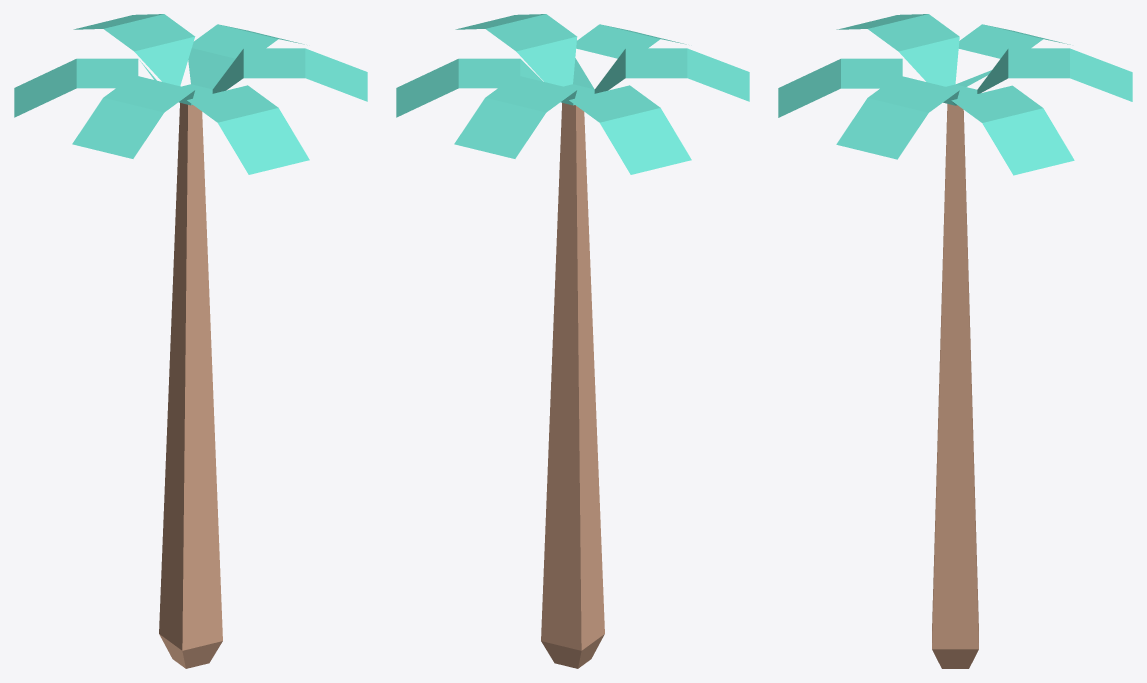
The model's file is palm.glb.
3 renders of one model, left to right at view 1: azimuth 30°, elevation 25°; view 2: azimuth 150°, elevation 25°; view 3: azimuth 270°, elevation 25°, orthographic.
Parts seen in each view (by area): view 1: tree_palm; view 2: tree_palm; view 3: tree_palm.
Boxes of the visible parts, x1,y1,x2,y2 form: tree_palm: [14, 14, 367, 668]; tree_palm: [396, 14, 749, 668]; tree_palm: [778, 14, 1132, 668].
Bounding box in the file's own units: 0.7839 × 1.51 × 0.8116.
